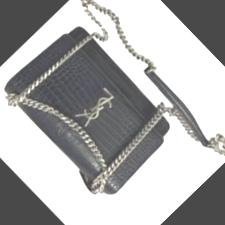YVES-SAINT-LAURENT: (74, 86, 116, 128)
